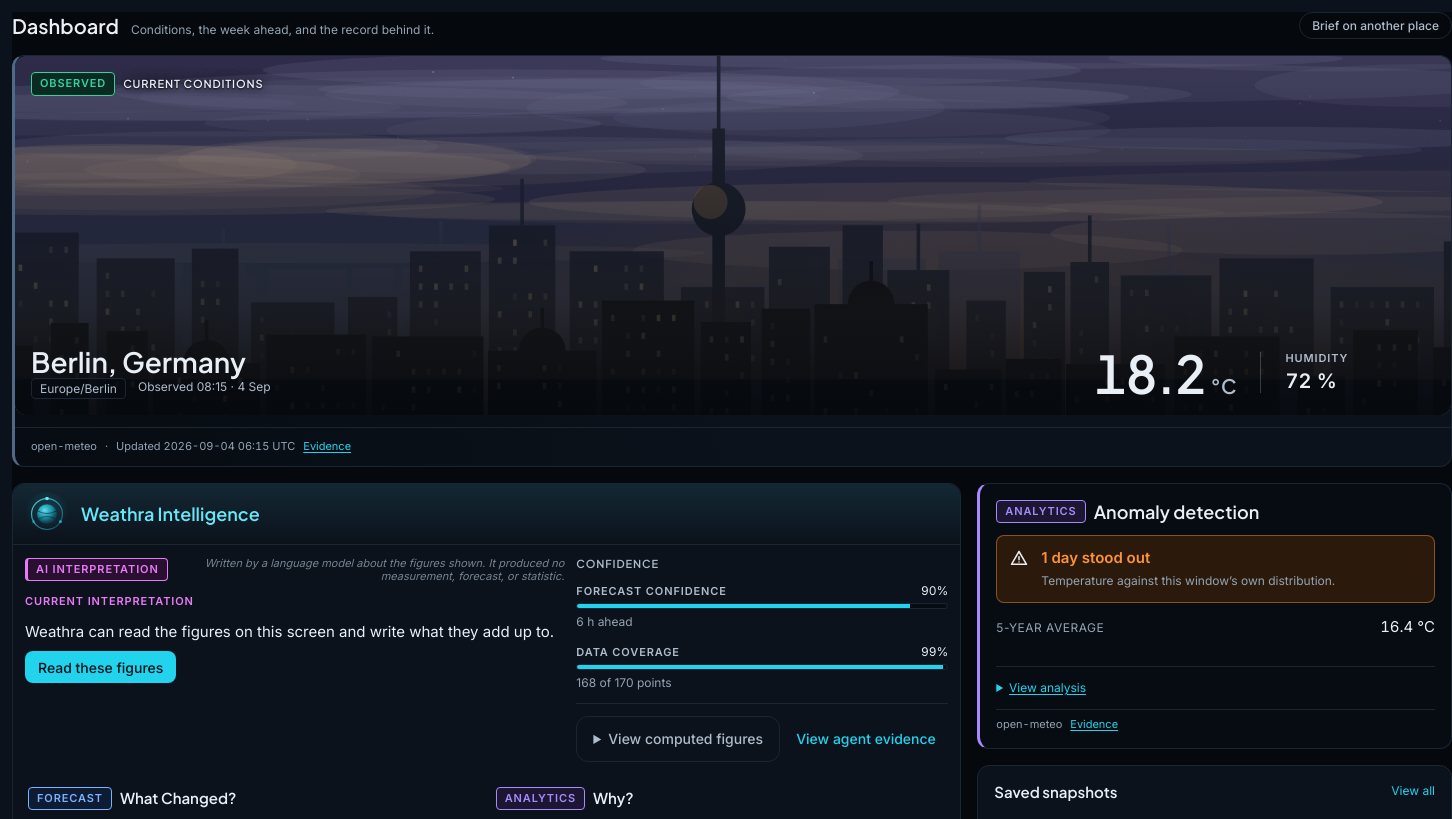
Test: the place entry, folded (1.7) › is closed once there is a briefing, and holds the same field one press away
The width and height of the screenshot is (1452, 819).
Expected: the element "Current conditions" is shown, [12,55,1451,467]
Expected: the field labelled "Brief me on a place" is not shown
Click the heading "Brief on another place".
click(1376, 26)  # box [1299,12,1451,39]
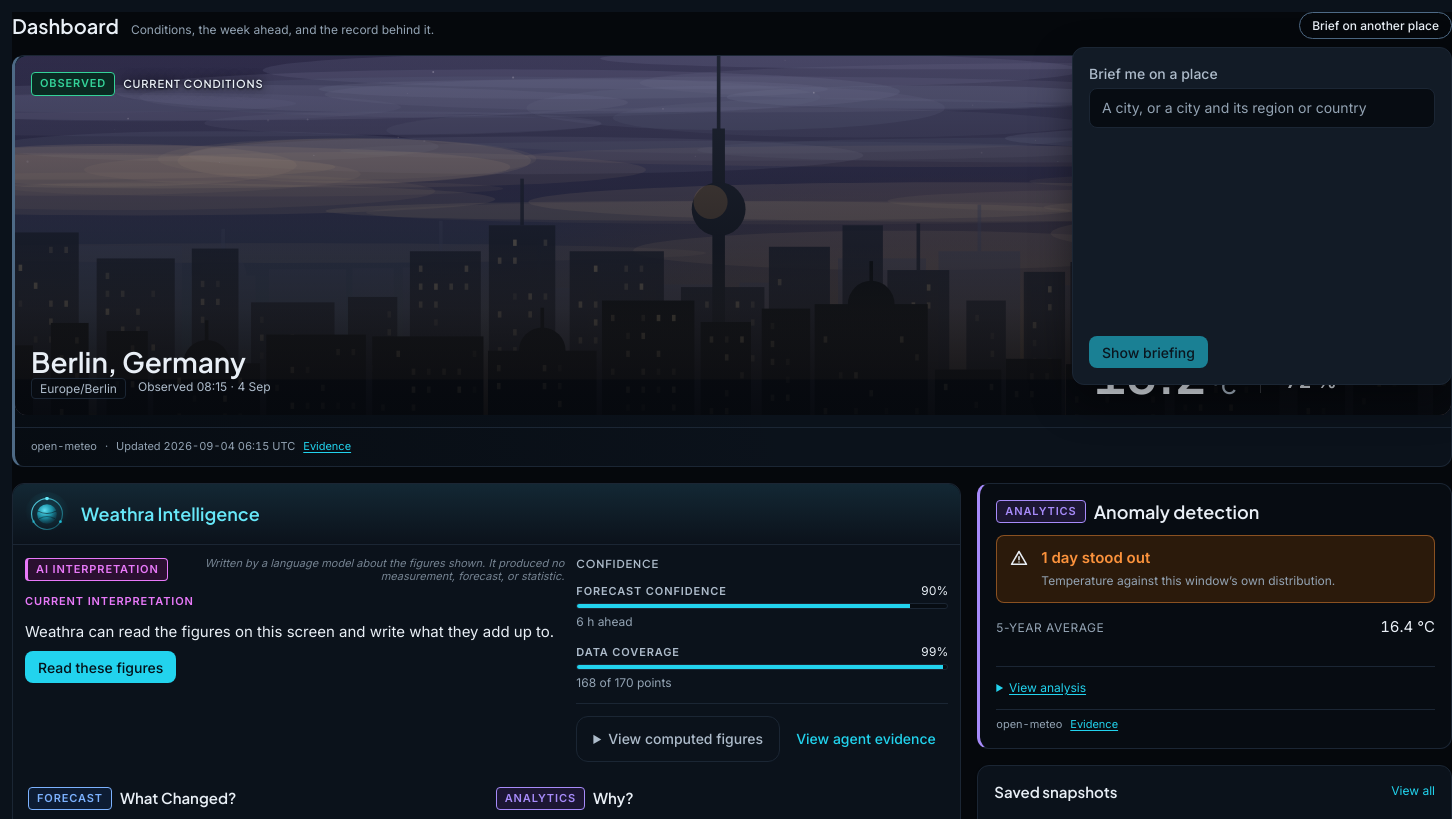
Result: the field labelled "Brief me on a place" is shown at [1089,88,1435,128]
Result: the button "Show briefing" is shown at [1089,336,1208,368]
